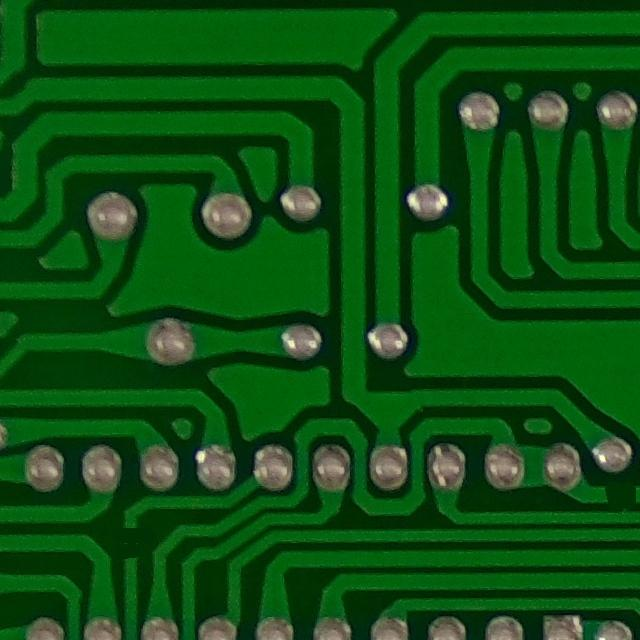open_circuit: (594, 475, 640, 514), (115, 521, 147, 569)
